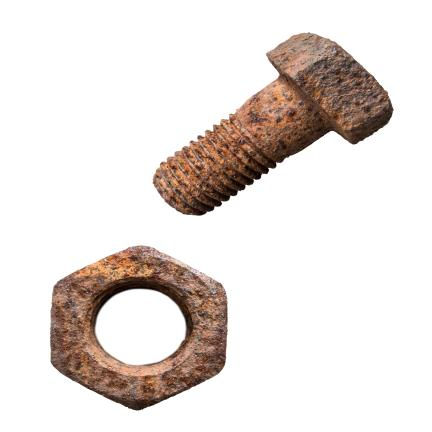karat: (154, 33, 392, 215)
